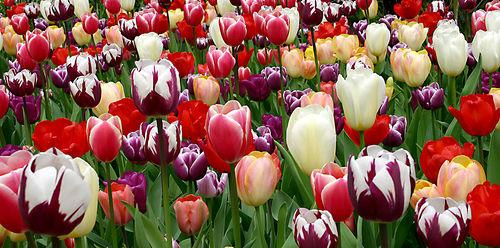tulip: (18, 149, 85, 237), (349, 145, 415, 221), (287, 105, 338, 174), (337, 69, 383, 130), (310, 161, 354, 223), (206, 101, 250, 161), (130, 60, 178, 115), (414, 197, 468, 245), (437, 156, 486, 204), (235, 151, 277, 205), (467, 182, 500, 247), (450, 93, 500, 135), (291, 208, 339, 248), (86, 114, 121, 161), (434, 34, 468, 75), (174, 195, 208, 234), (174, 145, 205, 181), (70, 75, 101, 106), (219, 11, 247, 45), (205, 43, 233, 77), (262, 11, 290, 43), (4, 69, 38, 95), (414, 81, 442, 111), (243, 74, 273, 101), (366, 22, 389, 55), (26, 29, 49, 61), (331, 35, 358, 58), (183, 1, 203, 26), (82, 11, 99, 34)
